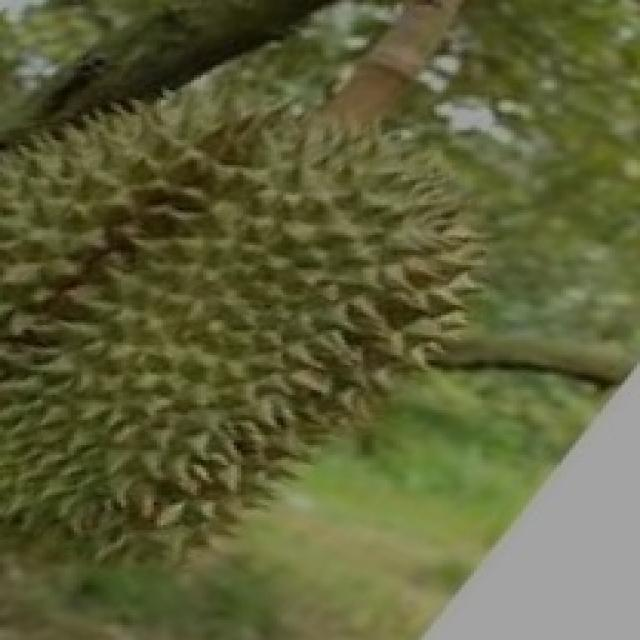fruit: (0, 30, 345, 500), (3, 282, 372, 638)
